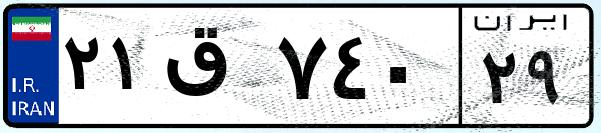0: (385, 28, 445, 110)
1: (110, 28, 158, 98)
2: (57, 26, 110, 100), (475, 38, 525, 113)
4: (330, 28, 385, 110)
7: (270, 28, 330, 110)
9: (525, 38, 570, 115)
ق: (158, 20, 270, 120)
